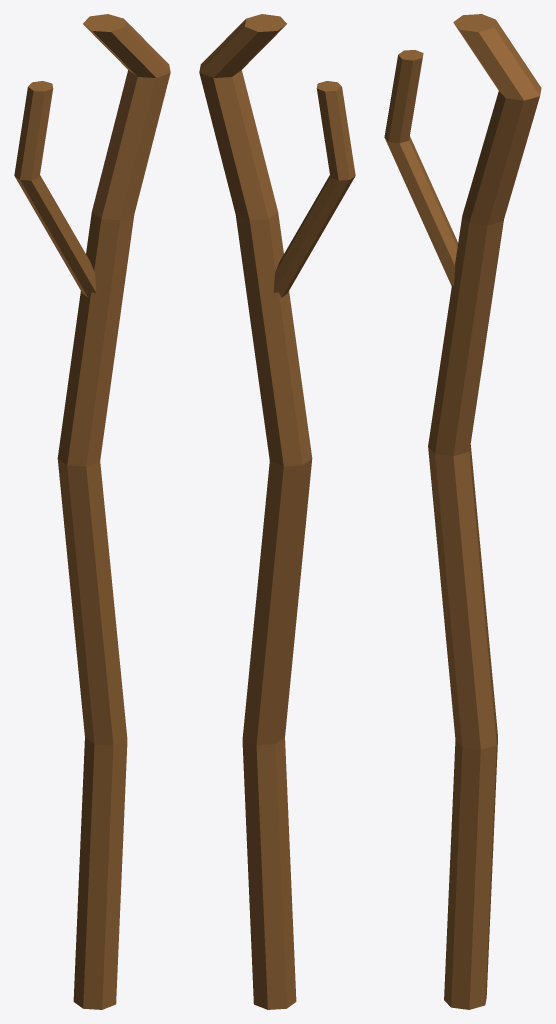
File: wizard_staff.glb
3 renders of one model, left to right at view 1: azimuth 30°, elevation 25°; view 2: azimuth 150°, elevation 25°; view 3: azimuth 330°, elevation 25°, orthographic.
Parts seen in each view (by area): view 1: AncientBranchStaff, StaffFork; view 2: AncientBranchStaff, StaffFork; view 3: AncientBranchStaff, StaffFork.
Part boxes in pixels (<box>): AncientBranchStaff: <box>57,14,170,1009</box>; StaffFork: <box>14,81,96,297</box>; AncientBranchStaff: <box>199,14,312,1009</box>; StaffFork: <box>273,81,355,297</box>; AncientBranchStaff: <box>428,14,541,1009</box>; StaffFork: <box>384,50,458,285</box>.
Size of the model in its own units: 0.3345 by 2.05 by 0.0819.
